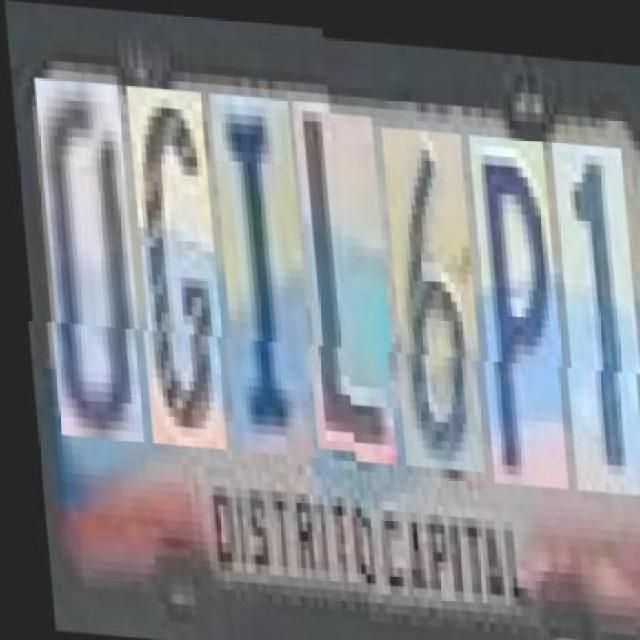0: (34, 87, 141, 450)
1: (550, 132, 639, 486)
6: (380, 120, 482, 465)
g: (126, 93, 225, 456)
i: (208, 100, 312, 462)
l: (291, 104, 394, 458)
p: (467, 126, 565, 480)
